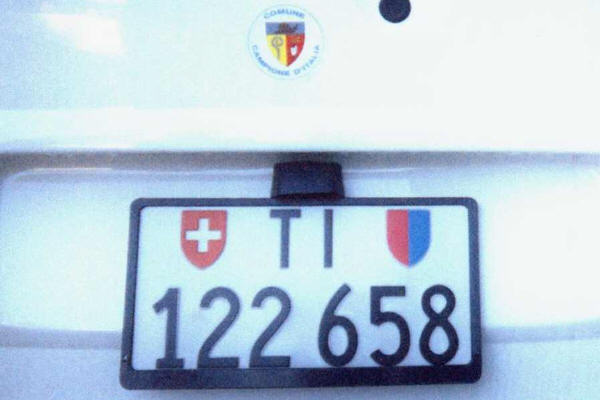license_plate: (121, 194, 478, 387)
